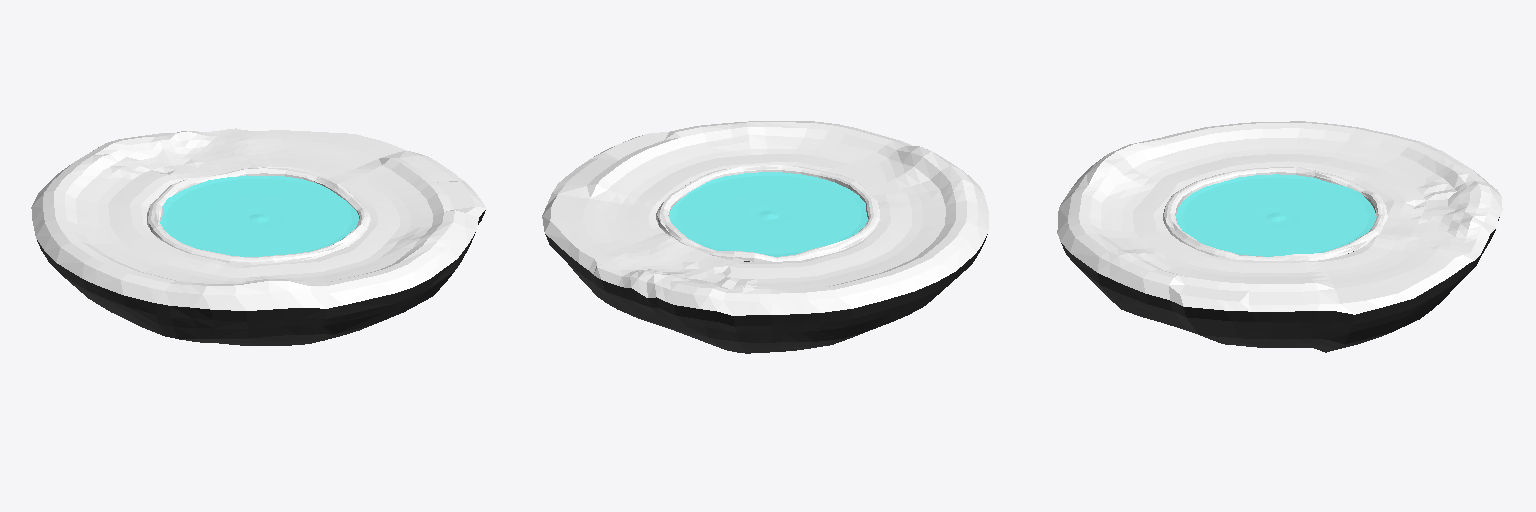
Rendered from SnowScene.obj.
The picture shows the model from 3 angles: view 1: azimuth 30°, elevation 25°; view 2: azimuth 150°, elevation 25°; view 3: azimuth 270°, elevation 25°; orthographic projection.
Parts seen in each view (by area): view 1: Wood_Stack.001; view 2: Wood_Stack.001; view 3: Wood_Stack.001.
Part boxes in pixels (x1,y1,x2,y2): Wood_Stack.001: (31, 128, 486, 345); Wood_Stack.001: (542, 121, 988, 353); Wood_Stack.001: (1057, 121, 1502, 352).
Size of the model in its own units: 11.75 by 3.37 by 11.68.